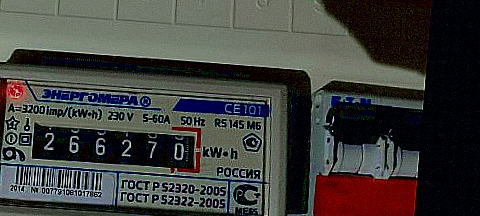0: (171, 140, 186, 161)
2: (41, 130, 57, 152), (119, 137, 134, 158)
6: (67, 133, 81, 155), (94, 136, 108, 157)
7: (145, 139, 158, 159)
screen: (22, 111, 209, 179)
